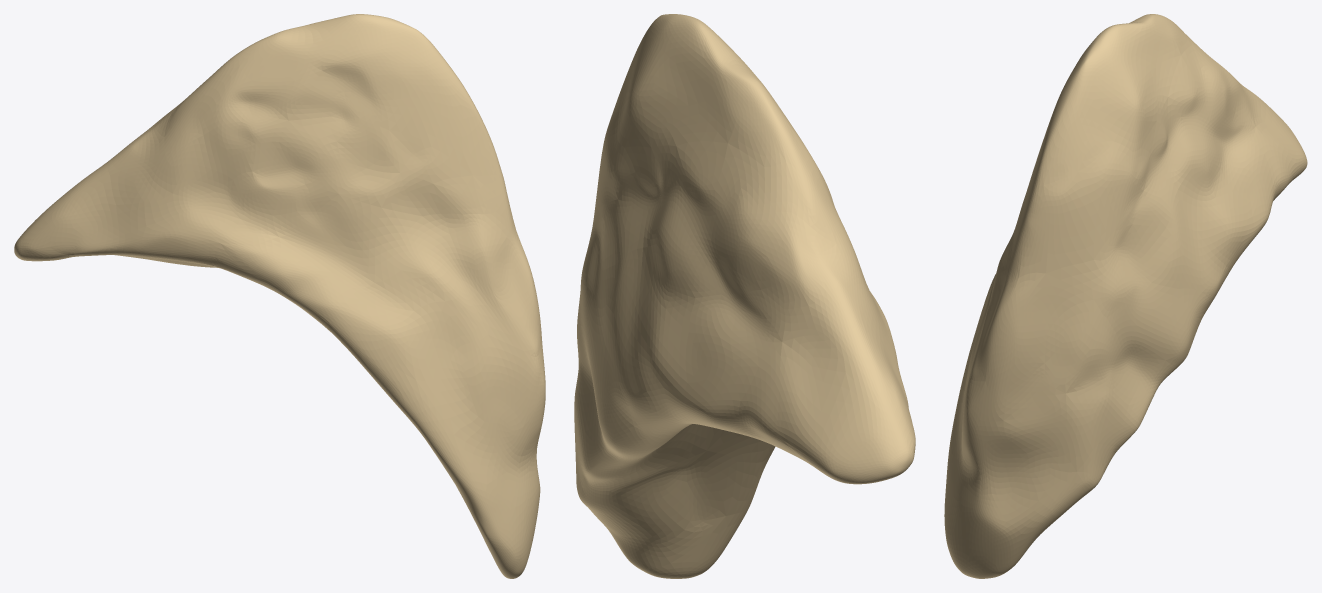
The model's file is surrene.glb.
3 renders of one model, left to right at view 1: azimuth 30°, elevation 25°; view 2: azimuth 150°, elevation 25°; view 3: azimuth 270°, elevation 25°, orthographic. The views are drawn at different scales.
Visible parts, largest first — view 1: right adrenal gland; view 2: right adrenal gland; view 3: right adrenal gland.
Part boxes in pixels (x1,y1,x2,y2): right adrenal gland: (14, 14, 545, 578); right adrenal gland: (574, 14, 915, 578); right adrenal gland: (944, 14, 1307, 578).
Bounding box in the file's own units: 31.82 × 42.22 × 27.19.
